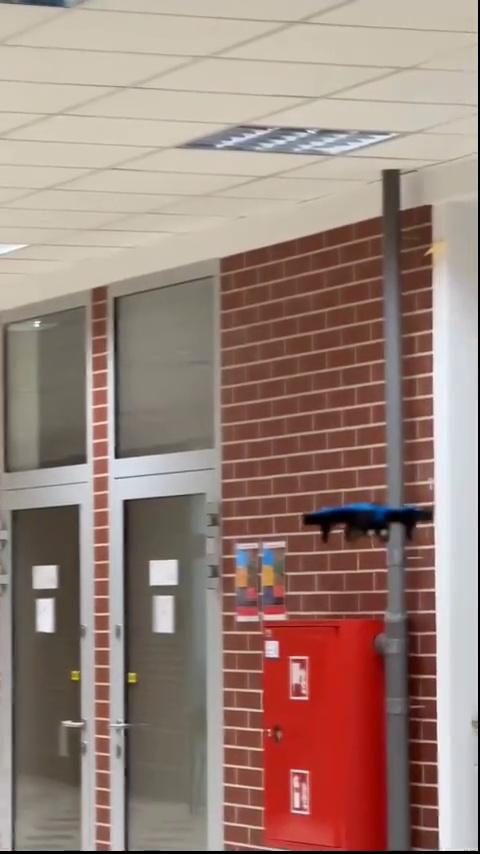drone: (305, 495, 437, 535)
